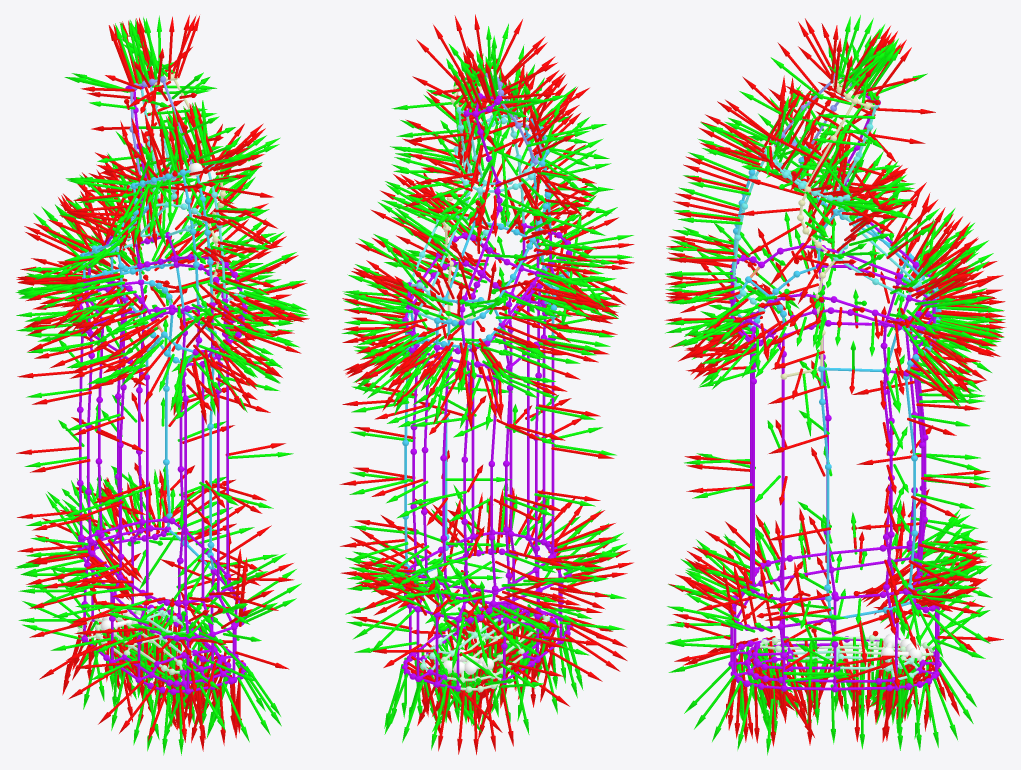
The model's file is flowrep_bottle.gltf.
The picture shows the model from 3 angles, left to right: view 1: azimuth 30°, elevation 25°; view 2: azimuth 150°, elevation 25°; view 3: azimuth 270°, elevation 25°; orthographic projection. The views are drawn at different scales.
Size of the model in its own units: 0.3676 by 1.14 by 0.498.
